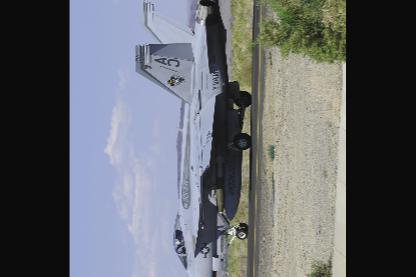F15: (134, 0, 251, 276)
